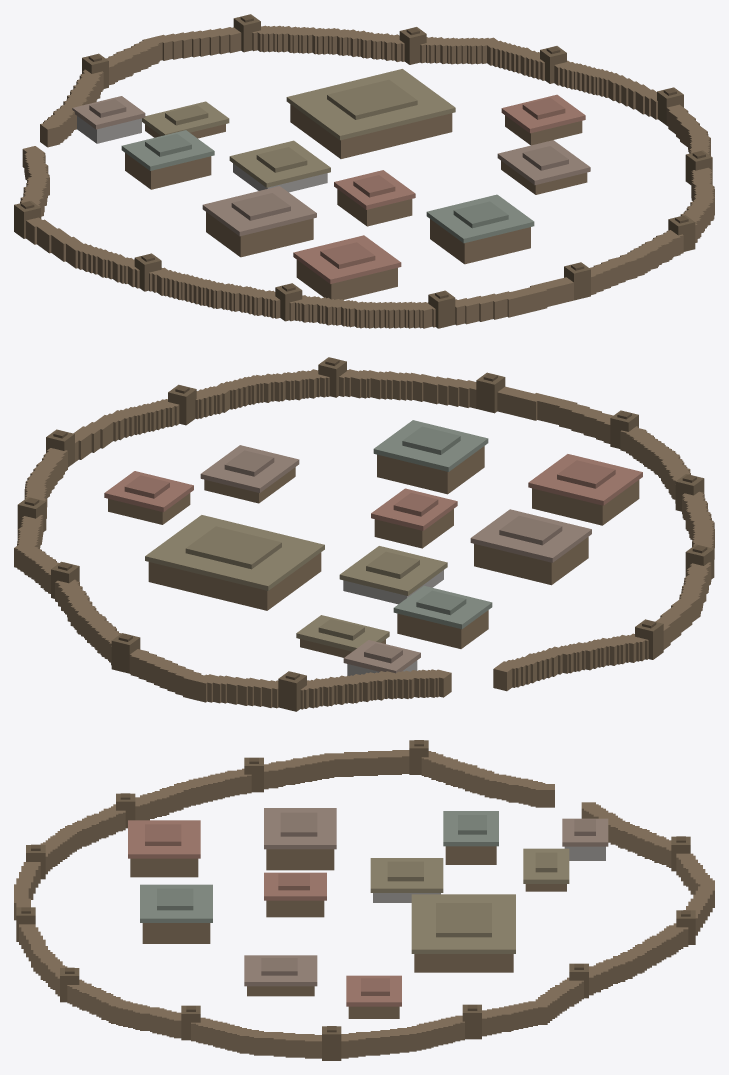
Rendered from ciudad_poblado_orco_poi_988_2055_01.glb.
3 views of the same model, one above another, from view 1: azimuth 30°, elevation 25°; view 2: azimuth 150°, elevation 25°; view 3: azimuth 270°, elevation 25° (orthographic). The views are drawn at different scales.
Visible parts, largest first — view 1: ciudad_poblado_orco_poi_988_2055; view 2: ciudad_poblado_orco_poi_988_2055; view 3: ciudad_poblado_orco_poi_988_2055.
Boxes of the visible parts, left/top/right/bottom form: ciudad_poblado_orco_poi_988_2055: left=14, top=14, right=714, bottom=328; ciudad_poblado_orco_poi_988_2055: left=14, top=357, right=714, bottom=711; ciudad_poblado_orco_poi_988_2055: left=14, top=740, right=714, bottom=1060.
Bounding box in the file's own units: 71.75 × 3.5 × 72.25.
